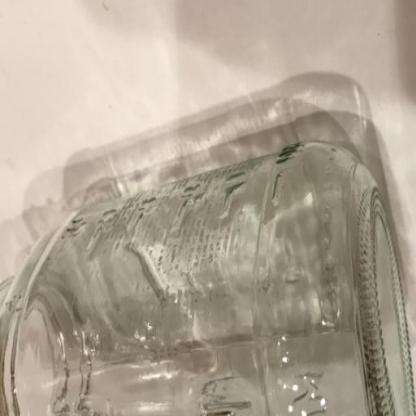trash: (1, 141, 413, 416)
